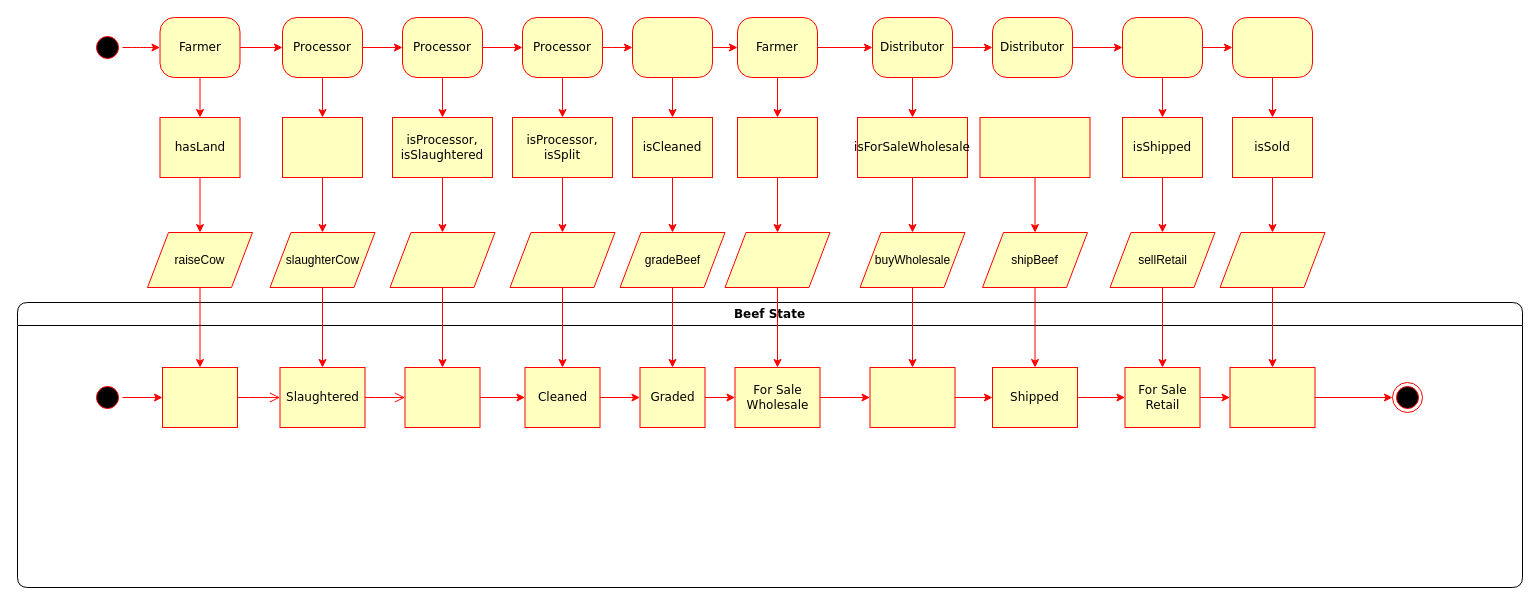
This 1540x605 diagram has some shape labels left out. Each missing label, with the centre of its shape:
"Bought Retail" goes at point 1272,397.
"Bought Wholesale" goes at point 912,397.
"buyRetail" goes at point 1272,260.
"cleanBeef" goes at point 562,260.
"Consumer" goes at point 1272,47.
"Grader" goes at point 672,47.
"isDistributor, isBoughtWholesale" goes at point 1034,147.
"isFarmer, isGraded" goes at point 777,147.
"Raised" goes at point 200,397.
"Retailer" goes at point 1162,47.
"sellWholesale" goes at point 777,260.
"Split" goes at point 442,397.
"splitCow" goes at point 442,260.
